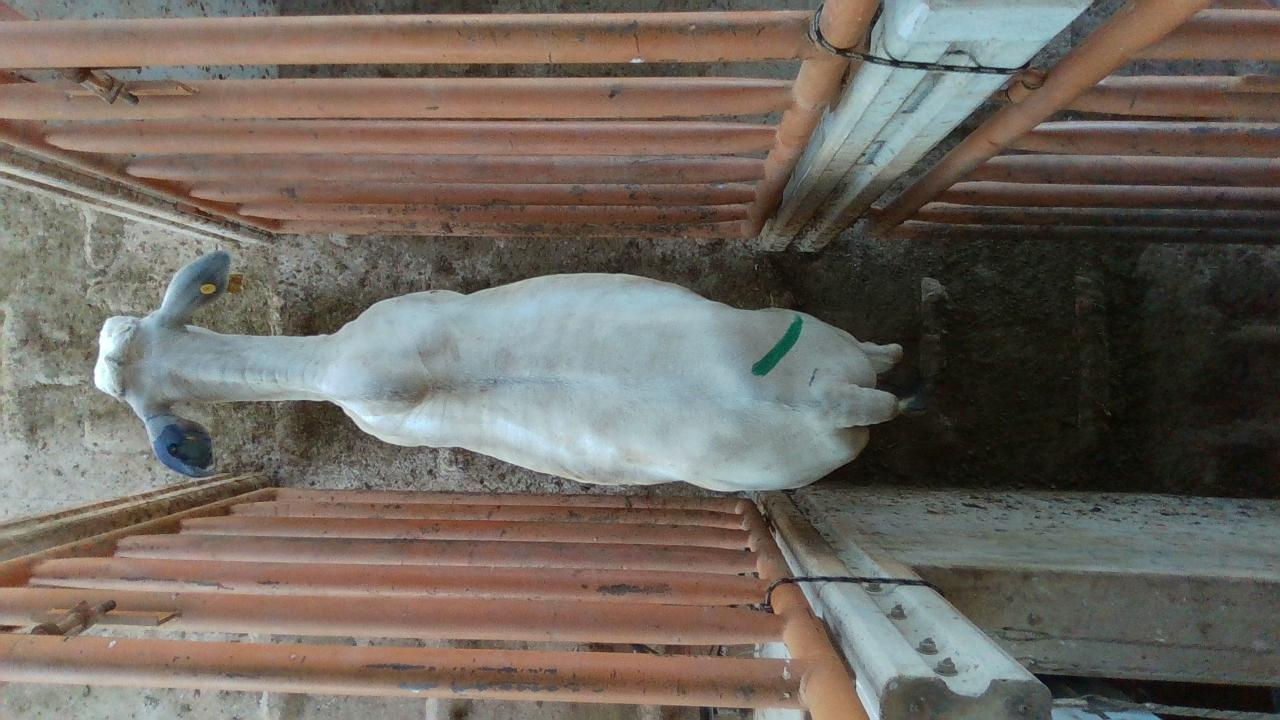cattle: (92, 248, 922, 493)
